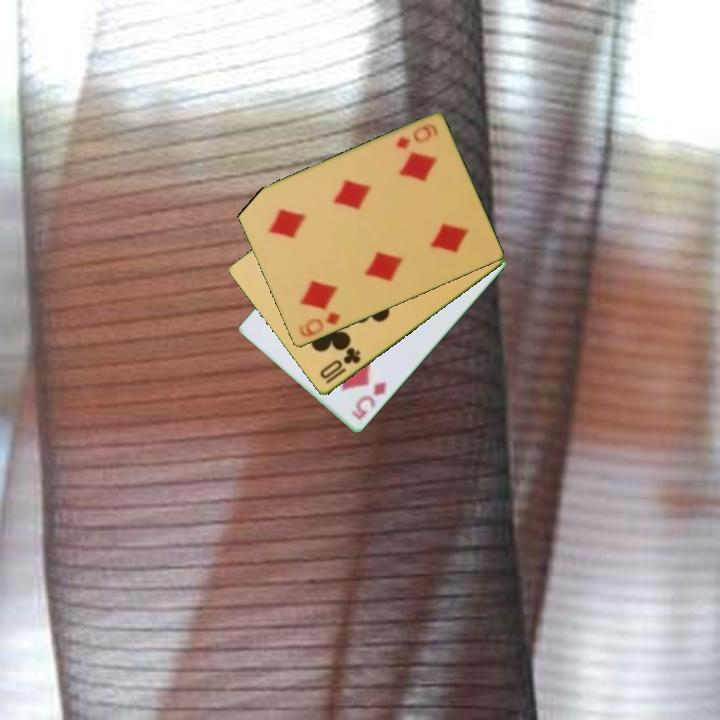10c: (316, 344, 364, 387)
5d: (347, 378, 390, 423)
6d: (295, 308, 343, 341), (393, 122, 434, 153)
